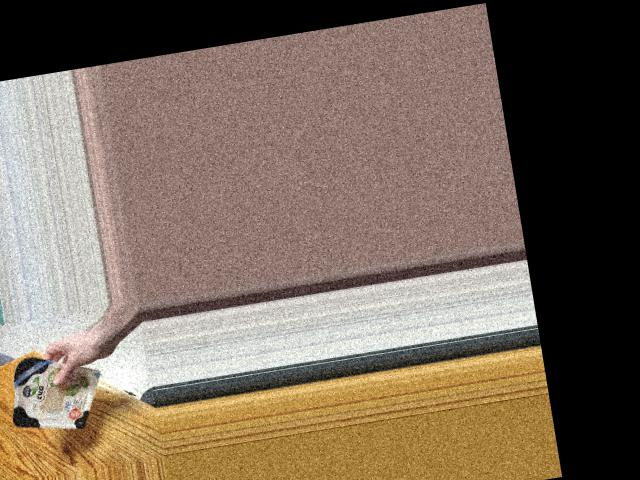cheese: (6, 351, 93, 436)
